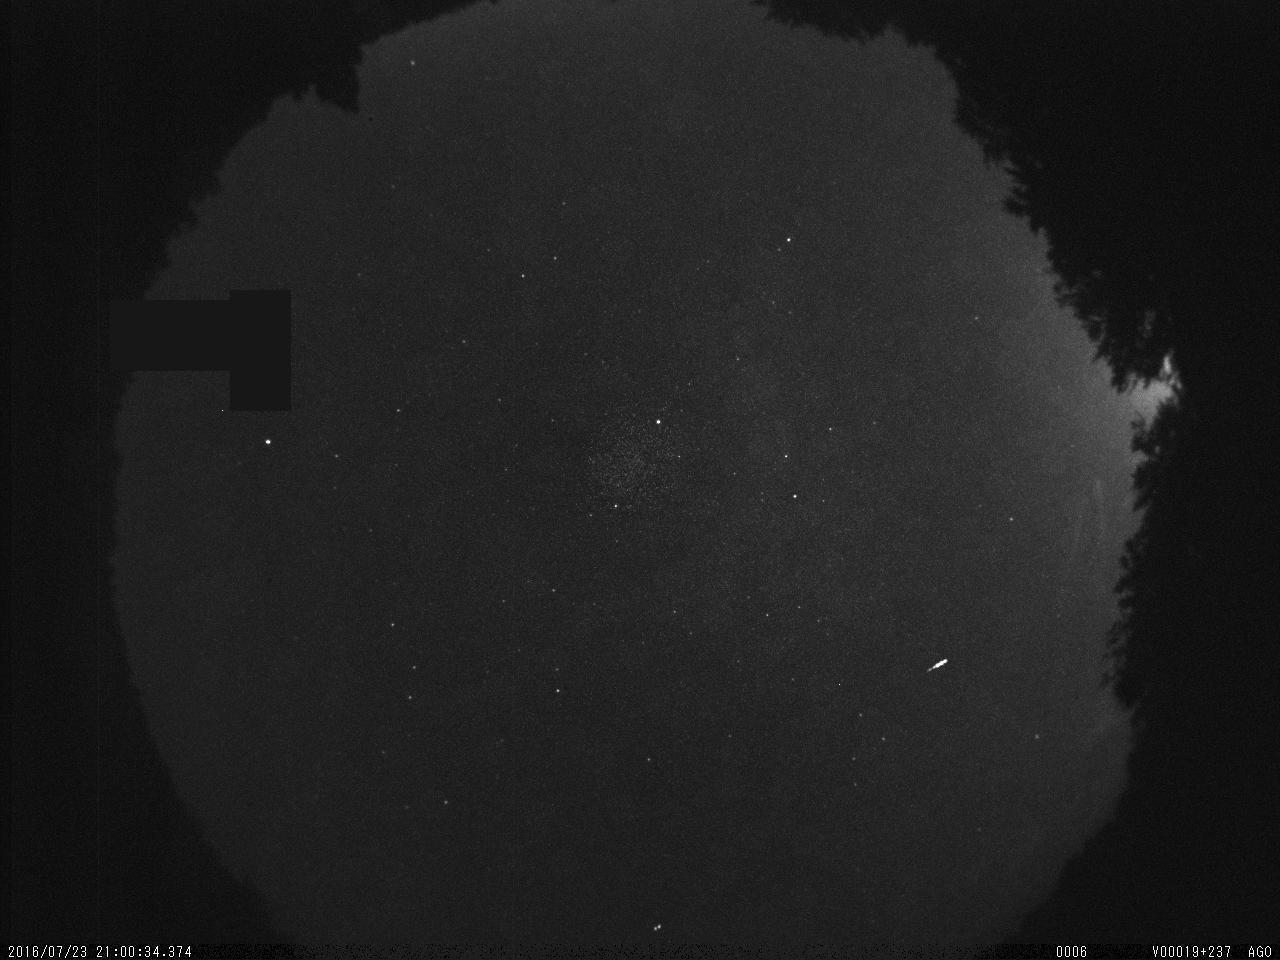Meteor: (924, 655, 952, 675)
